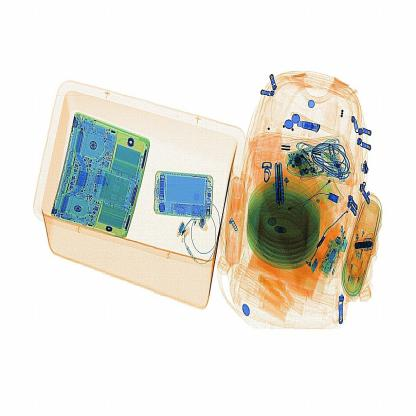scissors: (276, 160, 288, 208)
